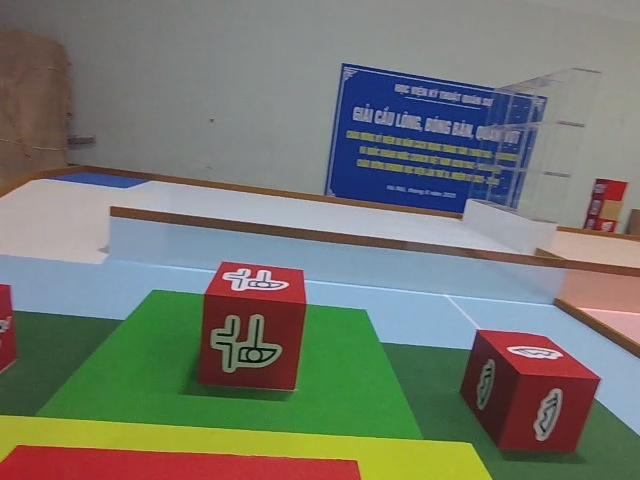R2 Real: (459, 326, 602, 455), (196, 257, 310, 395)
